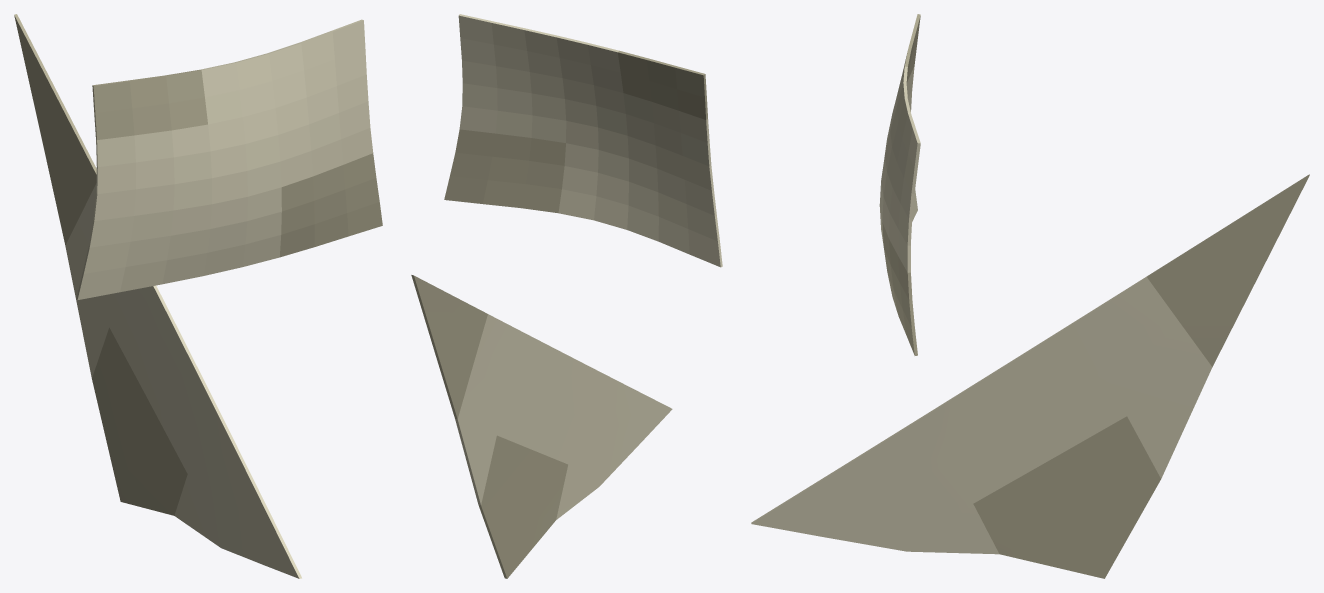
Rendered from LargeShip_3_Sails5.fbx.
3 renders of one model, left to right at view 1: azimuth 30°, elevation 25°; view 2: azimuth 150°, elevation 25°; view 3: azimuth 270°, elevation 25°, orthographic. The views are drawn at different scales.
Visible parts, largest first — view 1: LargeShip_3_Sails5; view 2: LargeShip_3_Sails5; view 3: LargeShip_3_Sails5.
Boxes of the visible parts, left/top/right/bottom form: LargeShip_3_Sails5: left=14, top=14, right=382, bottom=578; LargeShip_3_Sails5: left=411, top=14, right=722, bottom=578; LargeShip_3_Sails5: left=751, top=14, right=1309, bottom=578.
Size of the model in its own units: 732 by 1181 by 1184.
